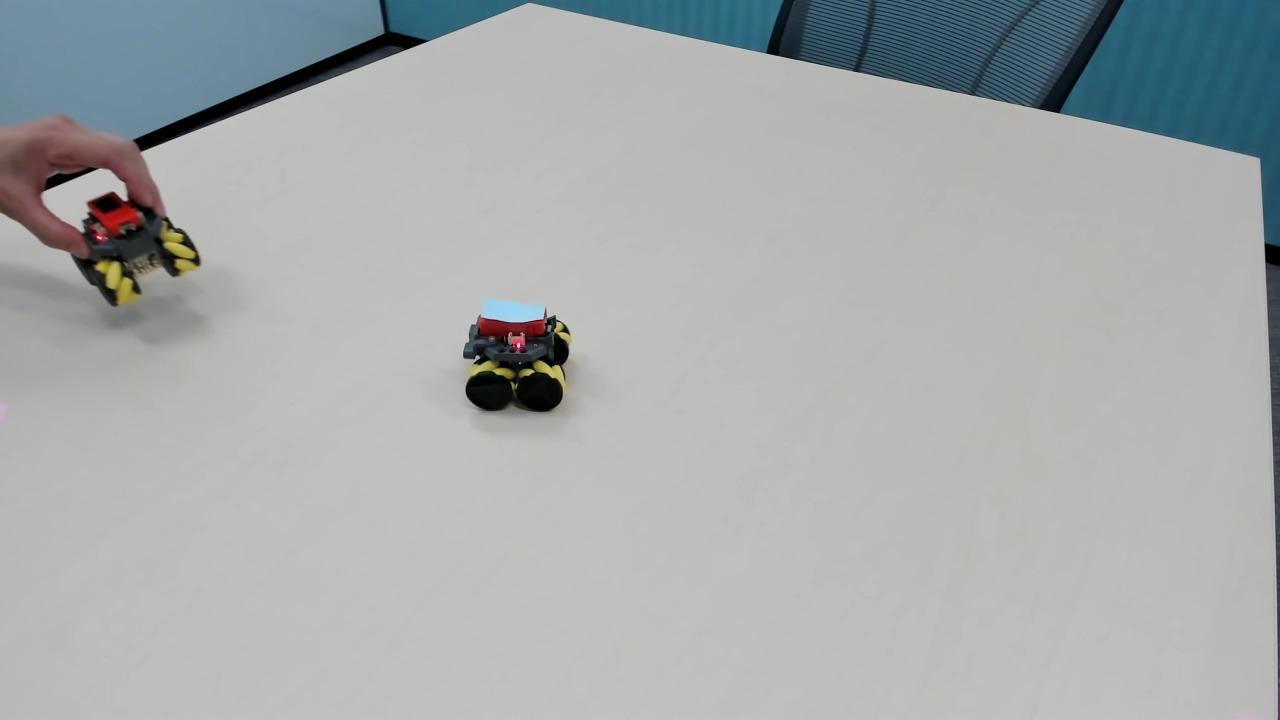B-Robot: (446, 288, 589, 446)
R-Robot: (61, 185, 213, 326)
